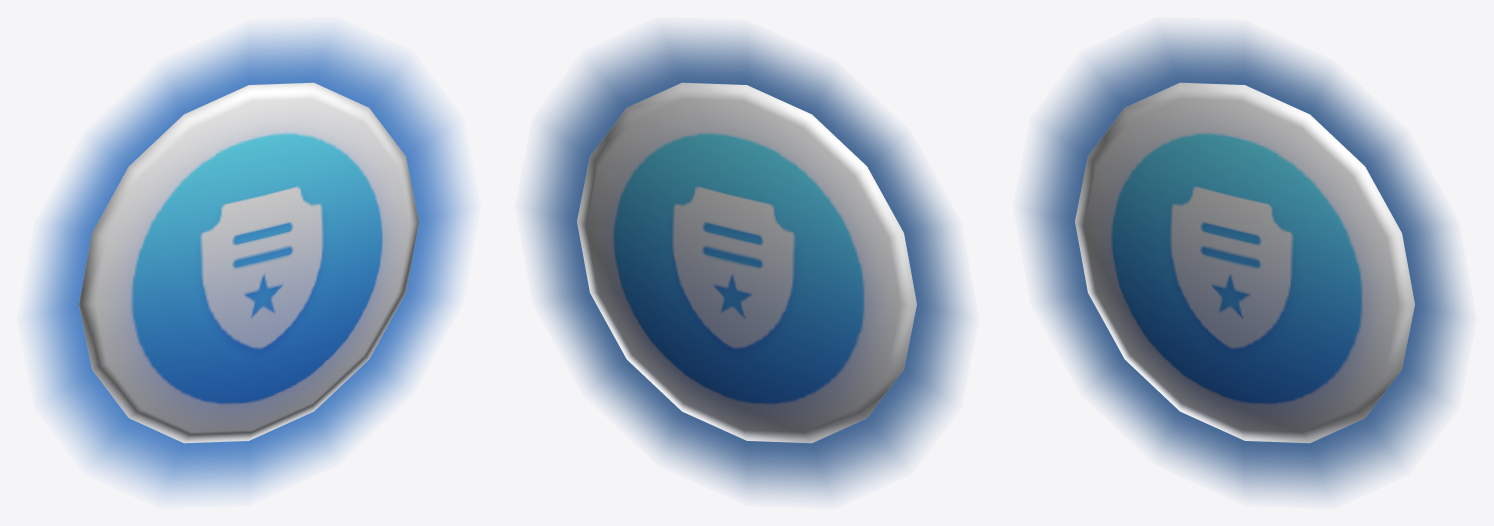
Rendered from minjing-tb.e7a1fc4.glb.
3 renders of one model, left to right at view 1: azimuth 30°, elevation 25°; view 2: azimuth 150°, elevation 25°; view 3: azimuth 330°, elevation 25°, orthographic.
Parts seen in each view (by area): view 1: 民警图标; view 2: 民警图标; view 3: 民警图标.
Boxes of the visible parts, left/top/right/bottom form: 民警图标: left=28, top=29, right=469, bottom=496; 民警图标: left=526, top=29, right=967, bottom=496; 民警图标: left=1024, top=29, right=1465, bottom=496.
Bounding box in the file's own units: 0.8291 × 0.8291 × 0.09.
2 materials, 2 textured.
